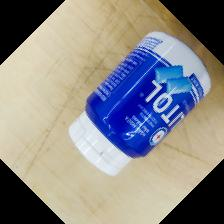Xylitol_blue: (70, 30, 213, 176)
